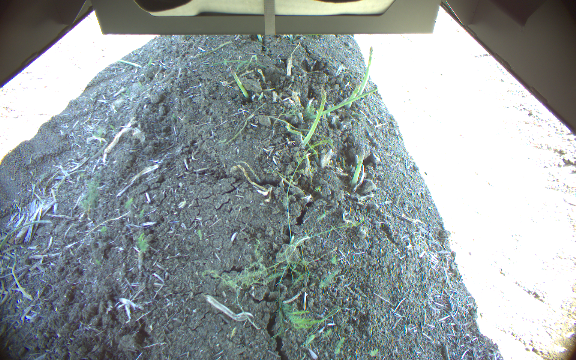aspa: (299, 87, 328, 149), (355, 46, 374, 98), (227, 65, 249, 100), (349, 146, 366, 191), (342, 76, 361, 111)
